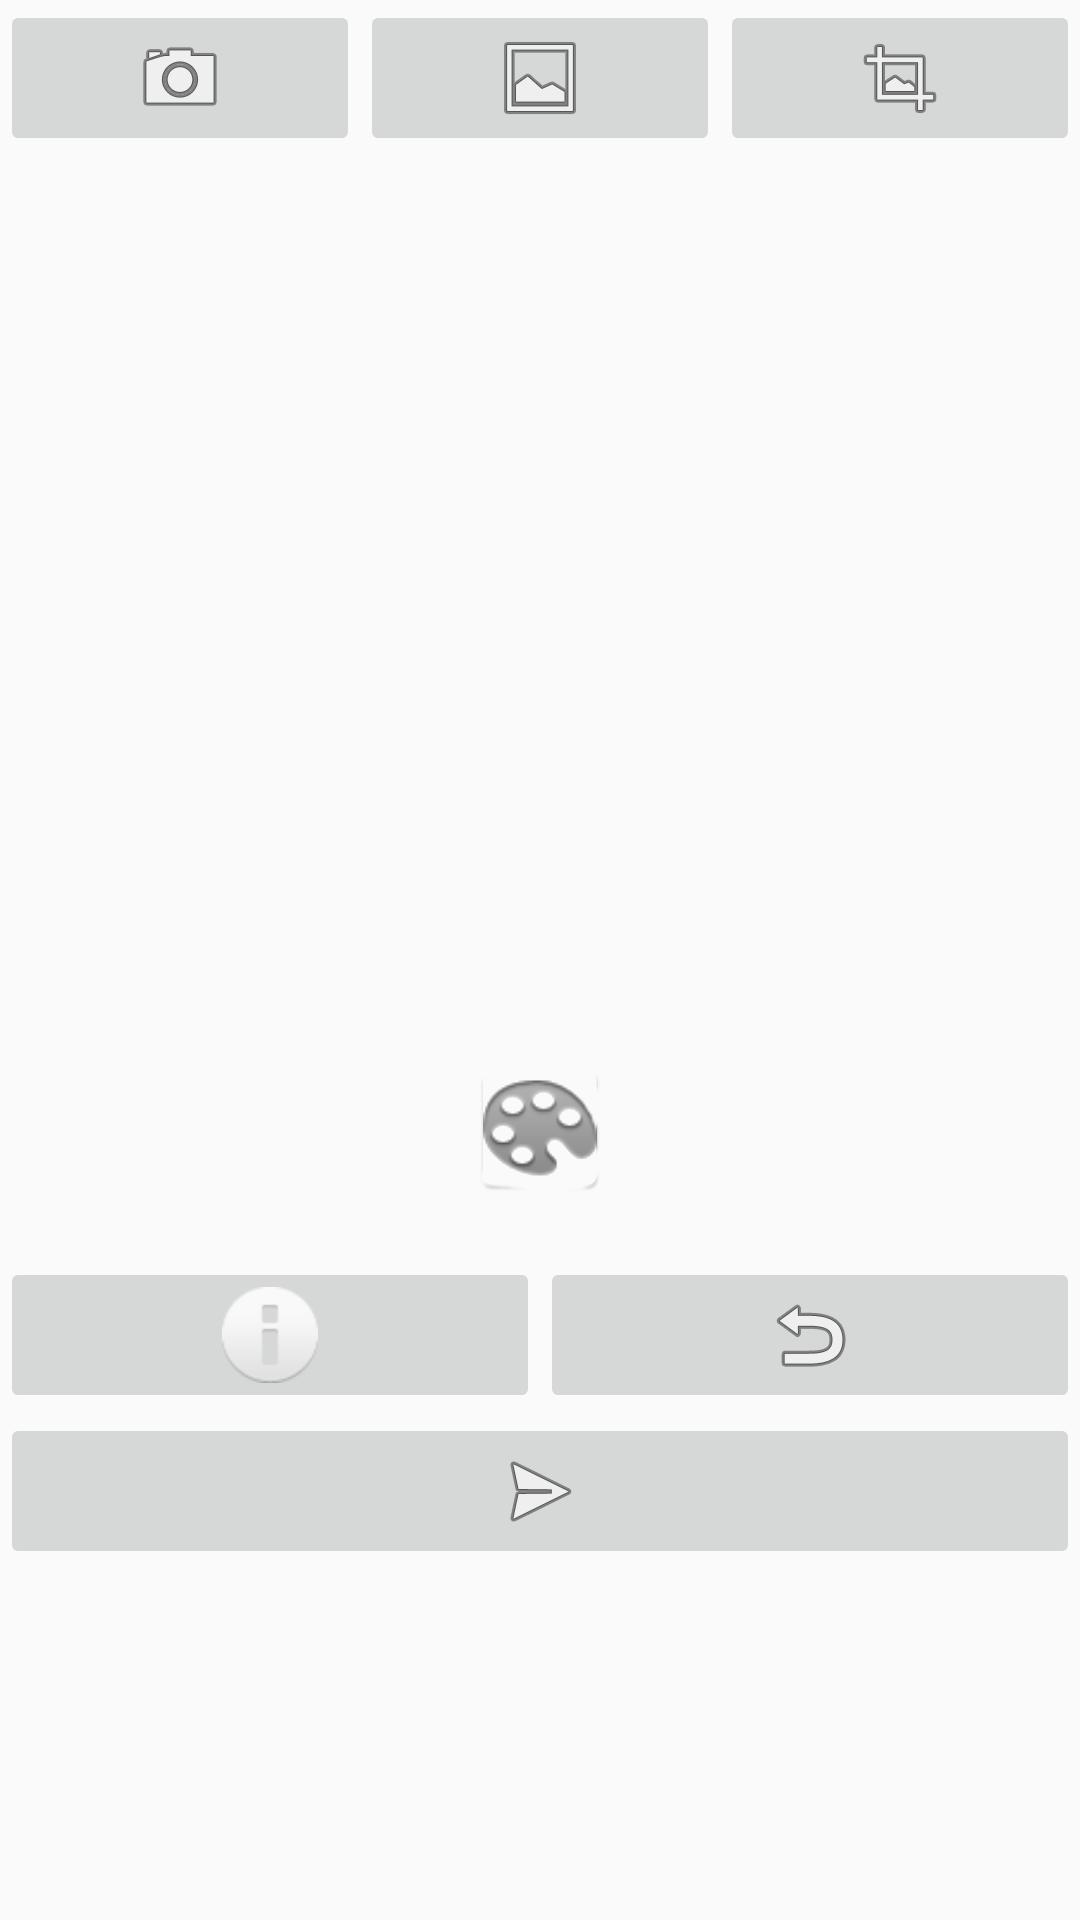

Locate icon controls on the screen. Image size 1080 x 1920, boxes as (x1, y1, x2, y2).
camera: (12, 18, 348, 138)
crop: (732, 18, 1068, 138)
gallery: (372, 18, 708, 138)
palette: (483, 1080, 598, 1188)
